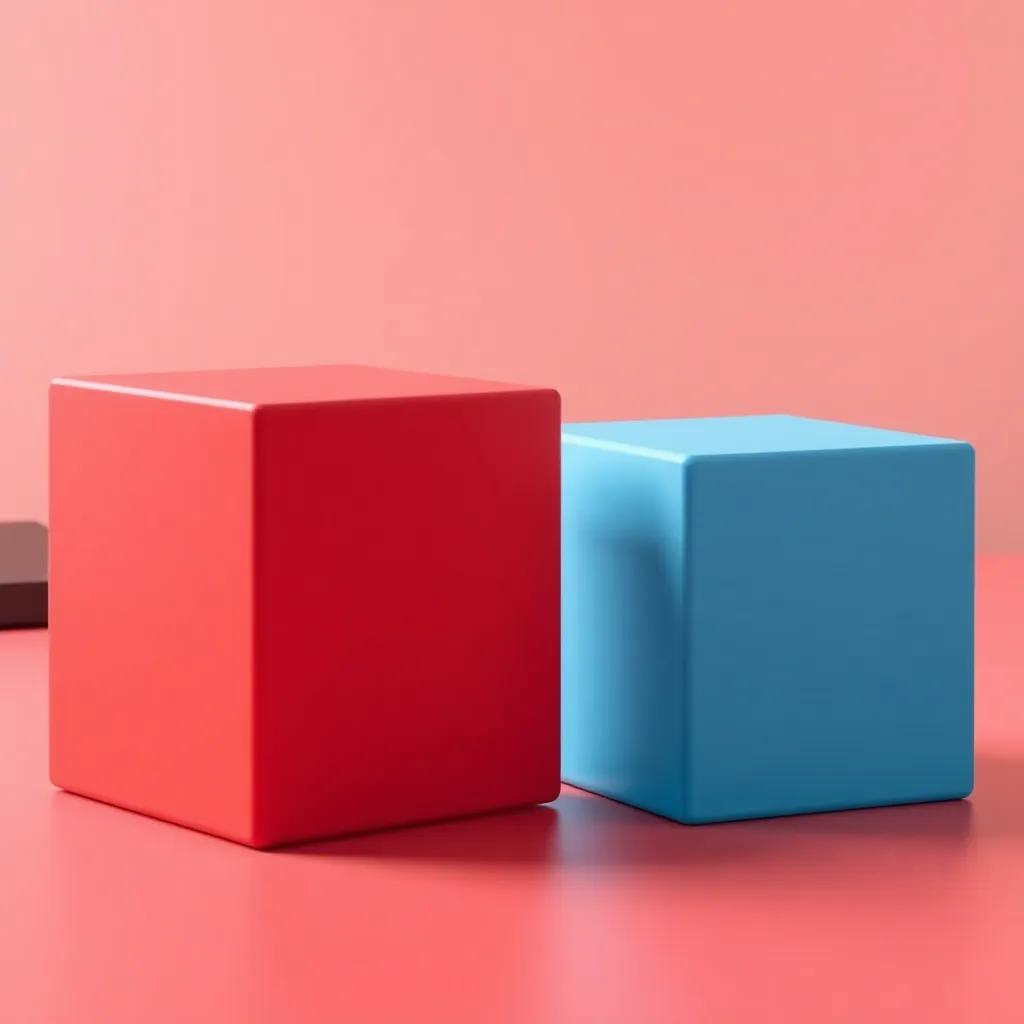cube: (46, 361, 562, 850), (558, 411, 976, 825)
